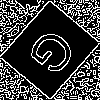G: (25, 25, 87, 85)
